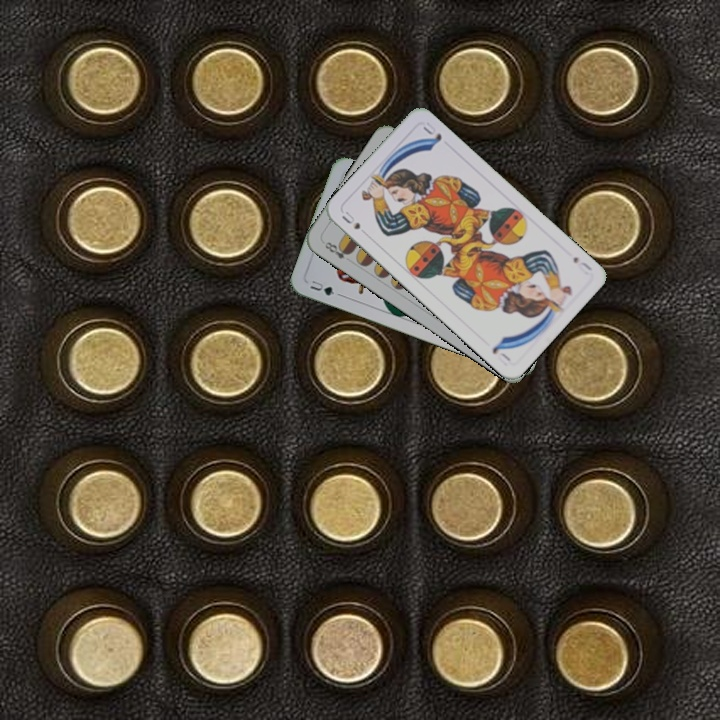E8: (321, 237, 354, 262)
GU: (305, 276, 337, 298)
SU: (569, 252, 595, 278), (338, 207, 363, 232)
